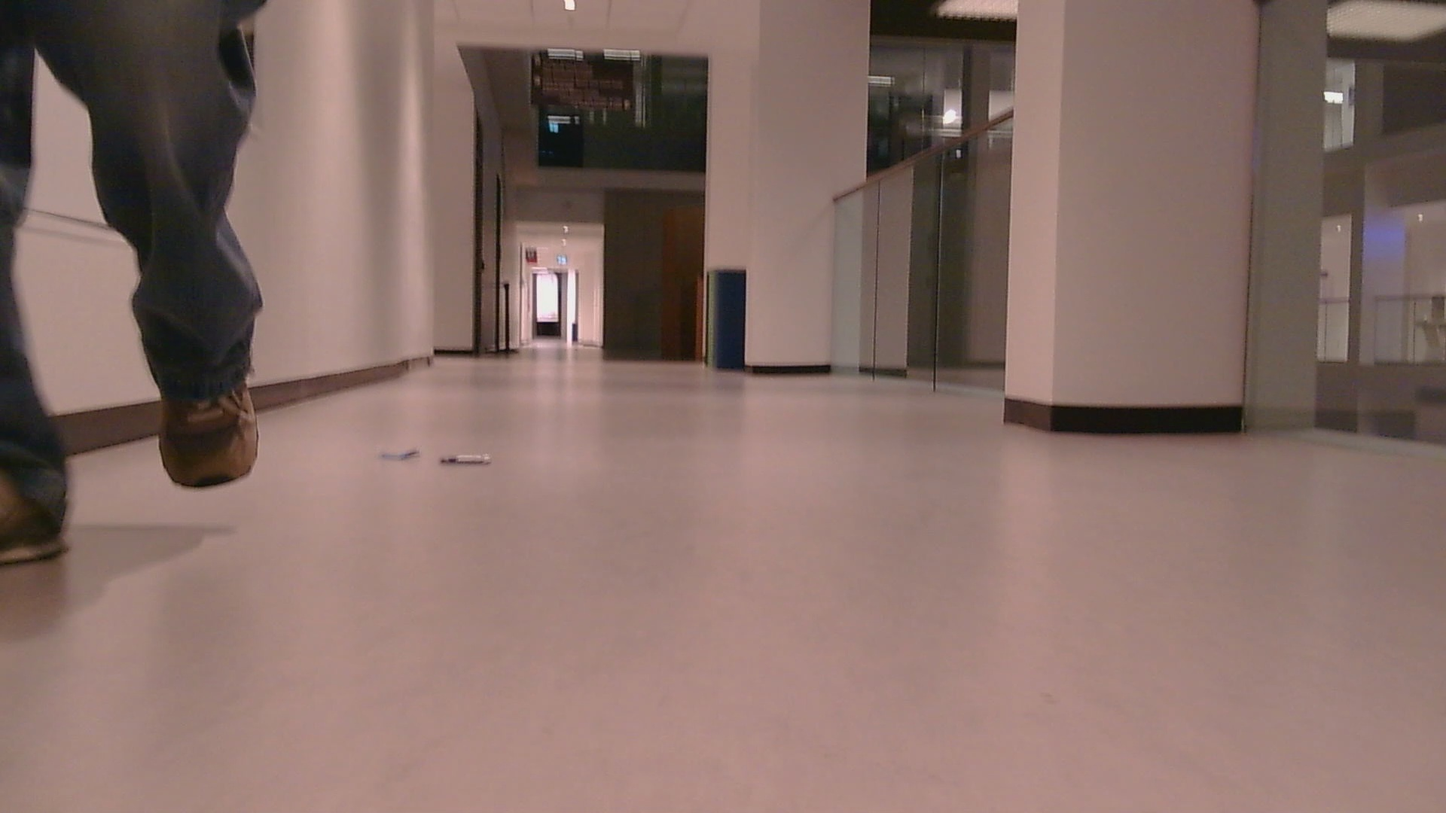carton: (424, 441, 493, 470), (370, 437, 423, 473)
